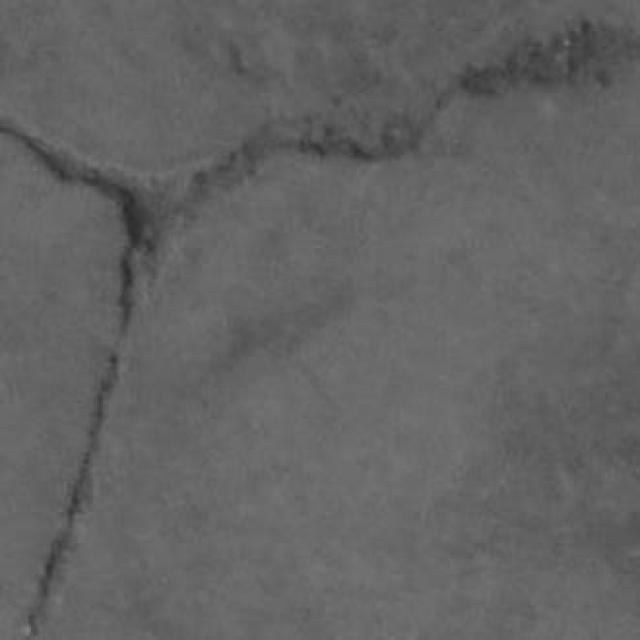crack: (0, 22, 639, 638), (22, 191, 153, 638), (460, 18, 639, 96)
